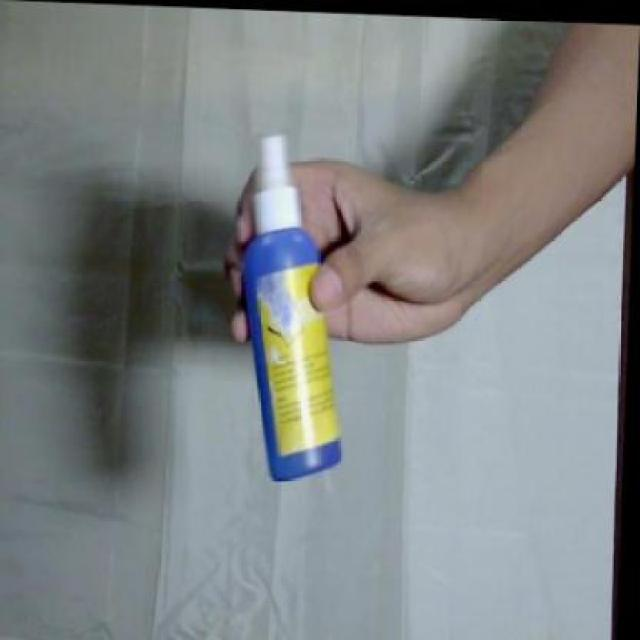Plastic: (235, 127, 346, 490)
